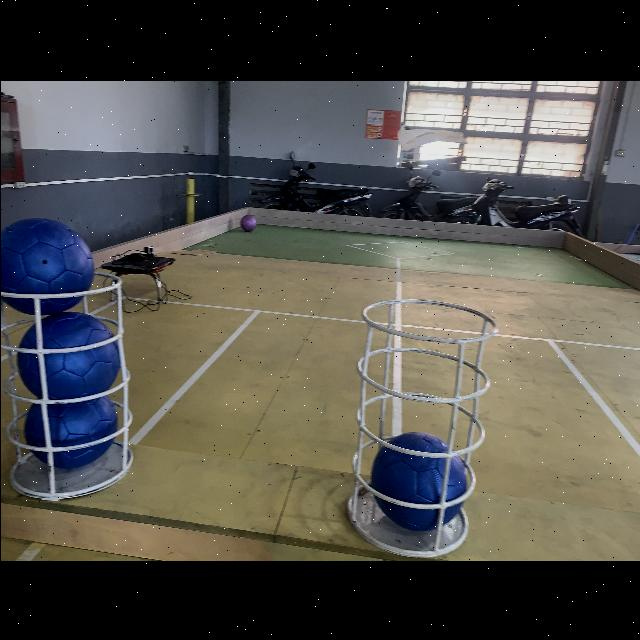B: (368, 429, 467, 531), (0, 215, 94, 315), (14, 311, 120, 399), (21, 389, 117, 468)
